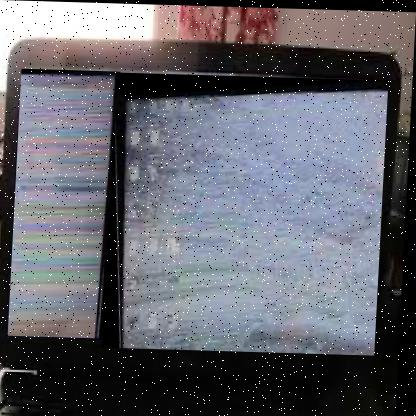fade: (105, 72, 389, 354)
lines: (10, 69, 121, 339)
